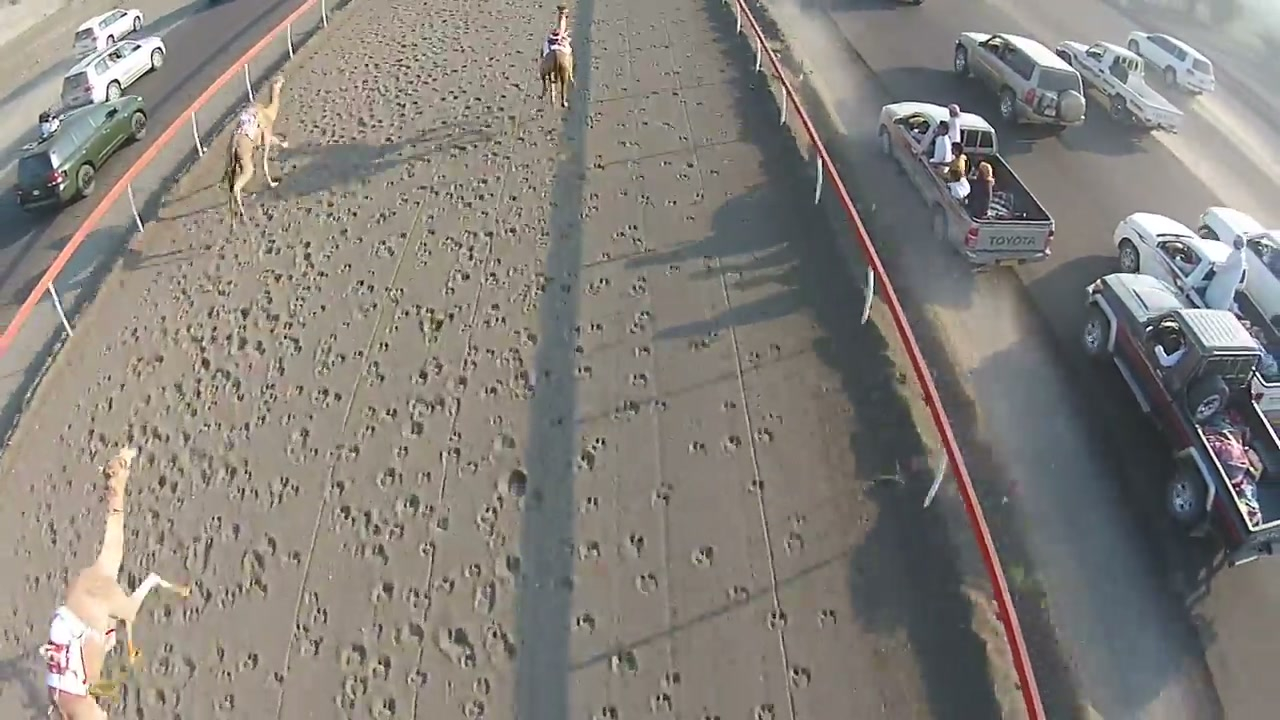animal_foot_print: (126, 87, 382, 718), (366, 58, 542, 704), (559, 80, 689, 700)
